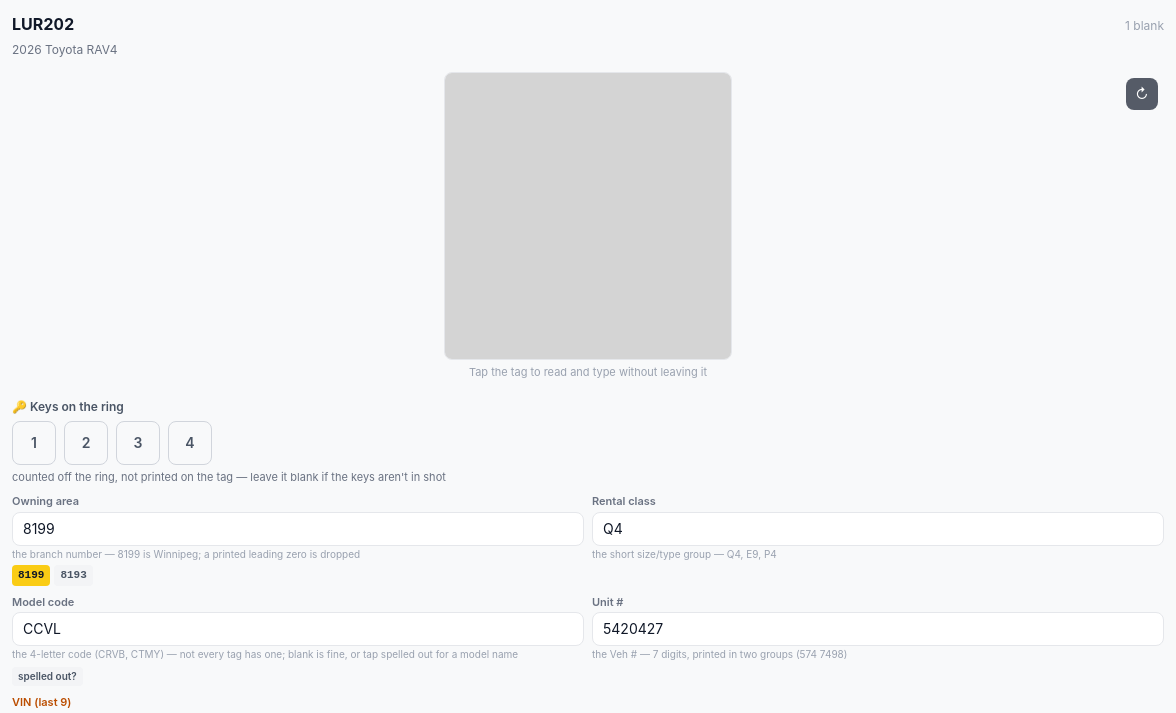
Test: KeytagAuditCard — the wrong-box guard › flags a model code typed into the rental-class box — the same mistake, mirrored
The image size is (1176, 713).
Replace the text in the field labelled "Rental class the short size/type group — Q4, E9, P4" with "CRVB" at [878, 528], box [592,512,1164,546]
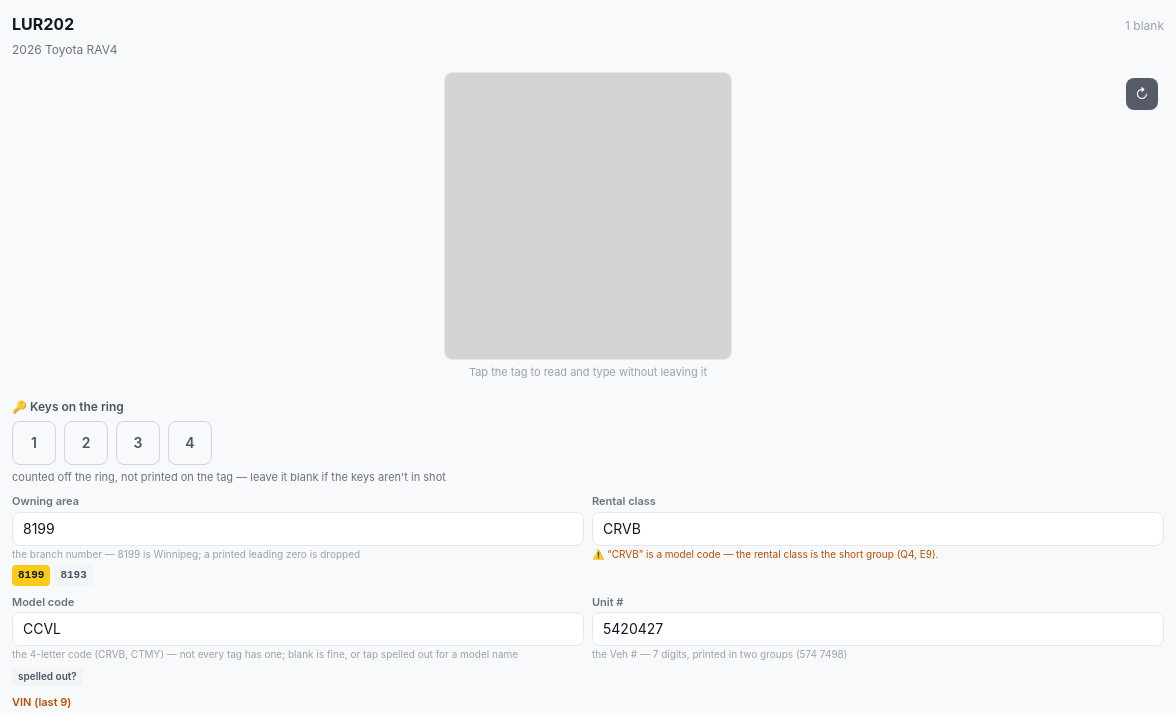
Now the text "is a model code" is shown, box [592,548,938,560]
